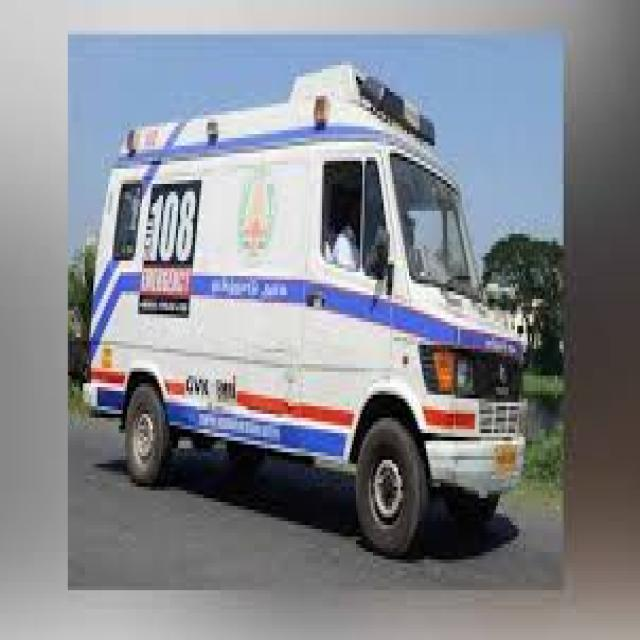ambulance: (89, 64, 528, 554)
